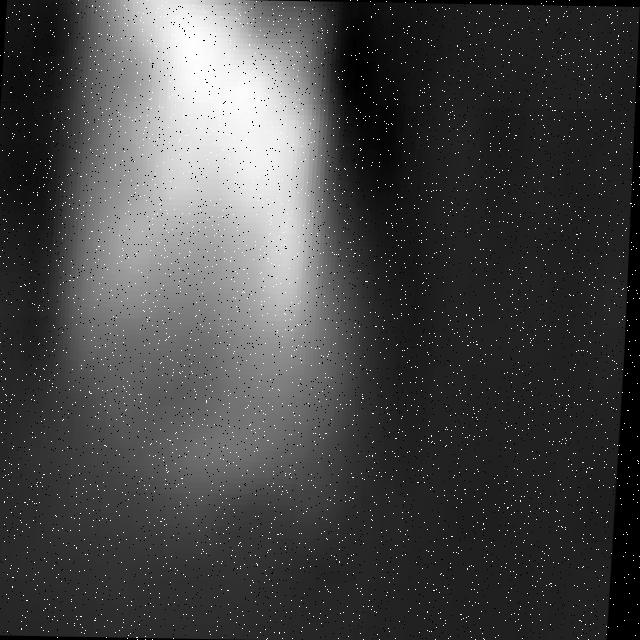person: (7, 1, 386, 506)
